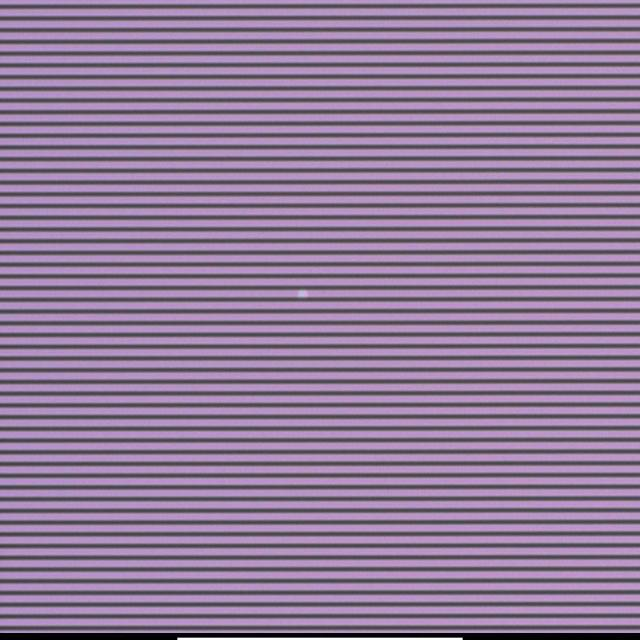nonvisual: (294, 285, 310, 302)
